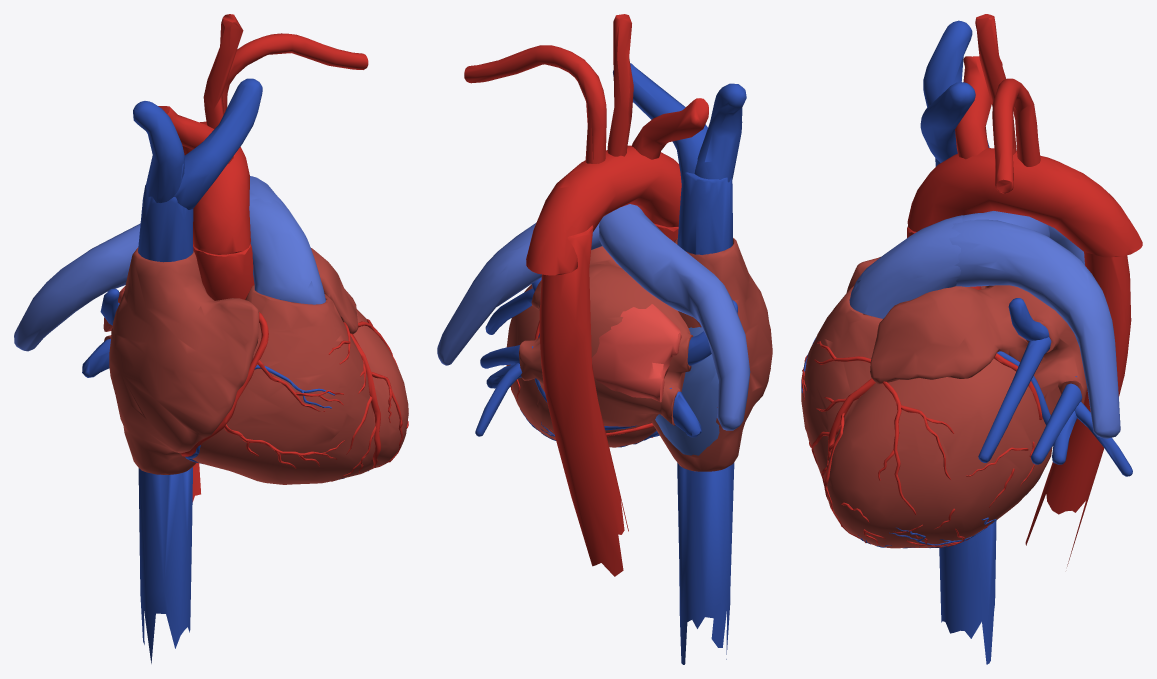
The model's file is herz3d.glb.
3 renders of one model, left to right at view 1: azimuth 30°, elevation 25°; view 2: azimuth 150°, elevation 25°; view 3: azimuth 270°, elevation 25°, orthographic. The views are drawn at different scales.
Parts seen in each view (by area): view 1: Wall of ventricle, Wall of right atrium, Inferior vena cava, Right pulmonary artery, Pulmonary trunk, Arch of aorta, Left brachiocephalic vein, Right brachiocephalic vein, Superior vena cava, Left subclavian artery, Ascending aorta, Left common carotid artery (+5 smaller); view 2: Descending thoracic aorta, Right pulmonary artery, Arch of aorta, Inferior vena cava, Wall of left atrium, Wall of right atrium, Cavity of left atrium, Left pulmonary artery, Left subclavian artery, Superior vena cava, Right brachiocephalic vein, Cavity of right atrium (+8 smaller); view 3: Wall of ventricle, Wall of left atrium, Left pulmonary artery, Arch of aorta, Descending thoracic aorta, Pulmonary trunk, Inferior vena cava, Left subclavian artery, Left superior pulmonary vein (×2), Left inferior pulmonary vein (×3), Left brachiocephalic vein, Right brachiocephalic vein (+5 smaller).
Boxes of the visible parts, bbox=[...] form: Wall of ventricle: bbox=[192, 285, 408, 484]; Wall of right atrium: bbox=[109, 247, 259, 474]; Inferior vena cava: bbox=[138, 467, 192, 663]; Right pulmonary artery: bbox=[14, 193, 263, 351]; Pulmonary trunk: bbox=[249, 198, 325, 304]; Arch of aorta: bbox=[182, 121, 250, 254]; Left brachiocephalic vein: bbox=[174, 78, 262, 209]; Right brachiocephalic vein: bbox=[133, 101, 184, 202]; Superior vena cava: bbox=[138, 185, 193, 262]; Left subclavian artery: bbox=[222, 33, 368, 112]; Ascending aorta: bbox=[193, 243, 254, 300]; Left common carotid artery: bbox=[203, 14, 243, 129]; Descending thoracic aorta: bbox=[539, 225, 628, 576]; Right pulmonary artery: bbox=[599, 204, 750, 430]; Arch of aorta: bbox=[526, 145, 681, 275]; Inferior vena cava: bbox=[677, 462, 734, 664]; Wall of left atrium: bbox=[519, 246, 693, 426]; Wall of right atrium: bbox=[651, 237, 772, 471]; Cavity of left atrium: bbox=[592, 304, 681, 402]; Left pulmonary artery: bbox=[437, 222, 602, 365]; Left subclavian artery: bbox=[464, 45, 606, 163]; Superior vena cava: bbox=[677, 172, 732, 254]; Right brachiocephalic vein: bbox=[694, 83, 746, 182]; Cavity of right atrium: bbox=[655, 327, 719, 455]; Wall of ventricle: bbox=[801, 286, 1052, 548]; Wall of left atrium: bbox=[870, 285, 1086, 414]; Left pulmonary artery: bbox=[949, 219, 1120, 438]; Arch of aorta: bbox=[907, 148, 1142, 257]; Descending thoracic aorta: bbox=[1025, 252, 1131, 566]; Pulmonary trunk: bbox=[849, 215, 962, 318]; Inferior vena cava: bbox=[939, 520, 996, 664]; Left subclavian artery: bbox=[992, 78, 1040, 193]; Left superior pulmonary vein (×2): bbox=[978, 298, 1051, 462]; Left inferior pulmonary vein (×3): bbox=[1031, 376, 1132, 476]; Left brachiocephalic vein: bbox=[920, 82, 975, 162]; Right brachiocephalic vein: bbox=[923, 20, 972, 107].
Size of the model in its own units: 0.1454 by 0.2787 by 0.1268.
